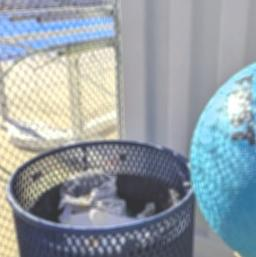algae: (191, 45, 256, 257)
